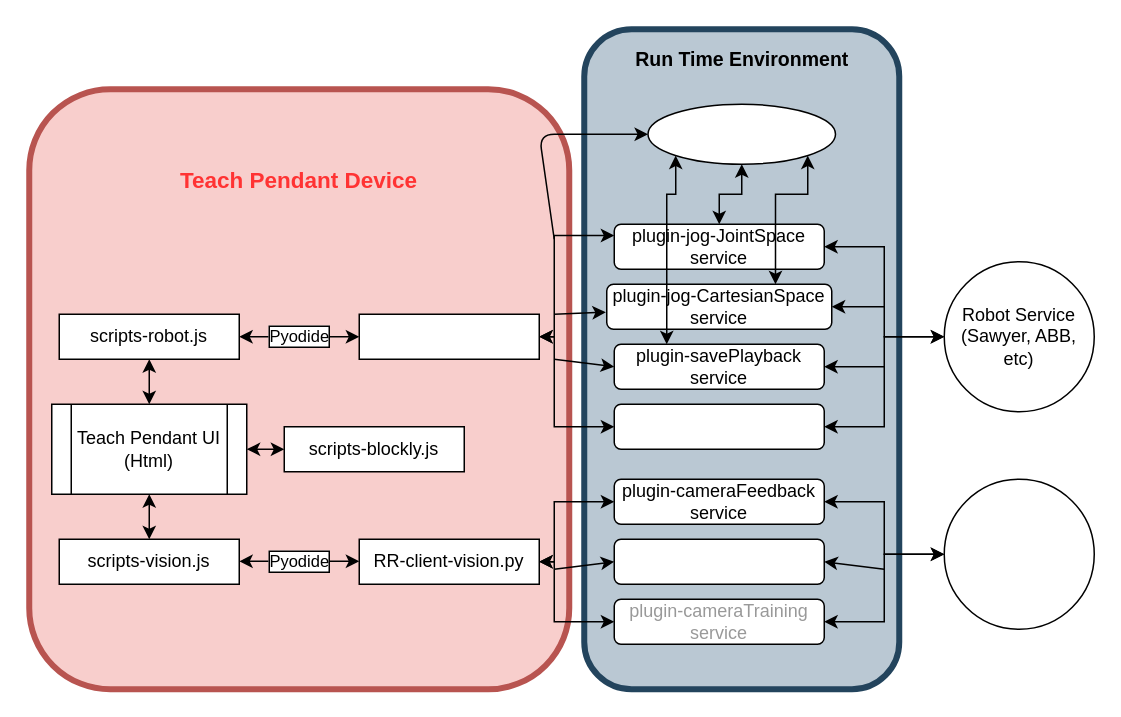
This 1121x717 diagram has some shape labels left out. The shapes that lost their labels are listed below. From the top down, each one's box as (x1, y1, x2, y2) in pixels, then its label:
(646, 103, 836, 164): plugin-blockly-service
(358, 313, 539, 359): RR-client-robot.py
(613, 403, 824, 449): plugin-updateInfo service
(613, 538, 824, 584): plugin-cameraCalibration service
(943, 478, 1094, 629): Webcam Service
